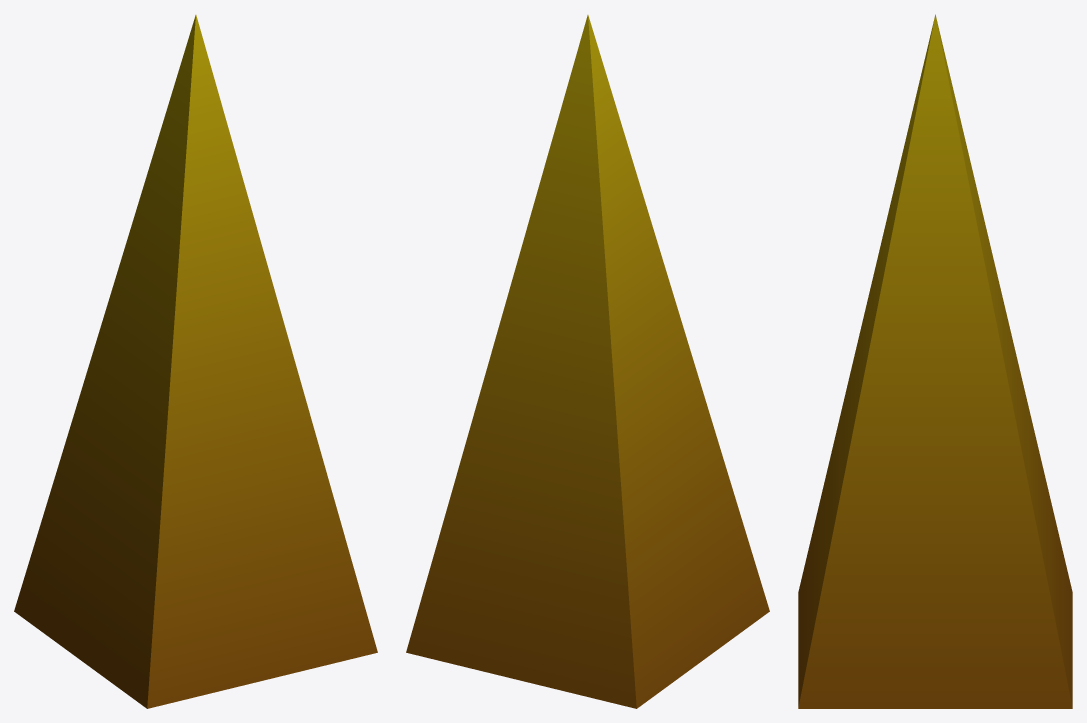
File: tree 5.fbx
3 renders of one model, left to right at view 1: azimuth 30°, elevation 25°; view 2: azimuth 150°, elevation 25°; view 3: azimuth 270°, elevation 25°, orthographic. The views are drawn at different scales.
Parts seen in each view (by area): view 1: tree_5; view 2: tree_5; view 3: tree_5.
Boxes of the visible parts, box(x1,y1,x2,y2) form: tree_5: box(14, 15, 377, 708); tree_5: box(406, 15, 769, 708); tree_5: box(798, 14, 1072, 708).
Bounding box in the file's own units: 200 × 512 × 200.
1 material, 1 textured.
